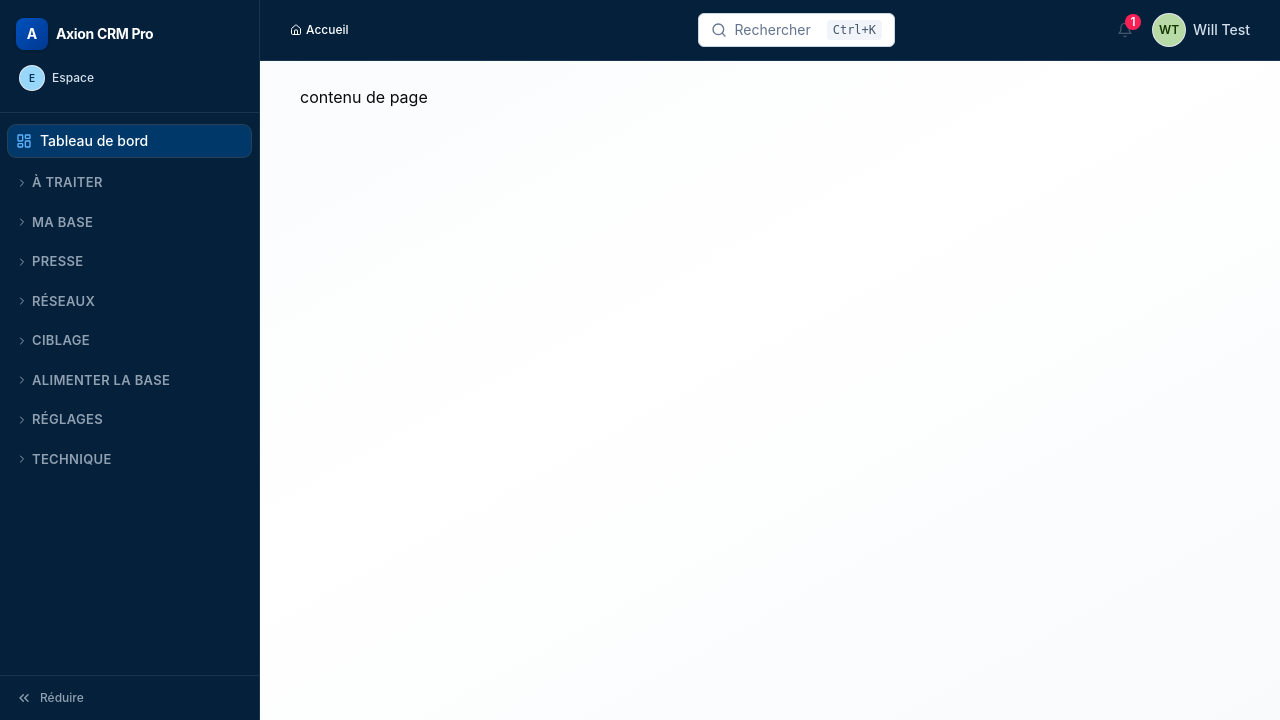
Test: D24-002 — la cloche de l’en-tete ouvre un panneau reel › Echap referme le panneau
Click the button named "Notifications" at (1125, 30), box x1=1111 y1=16 x2=1139 y2=44
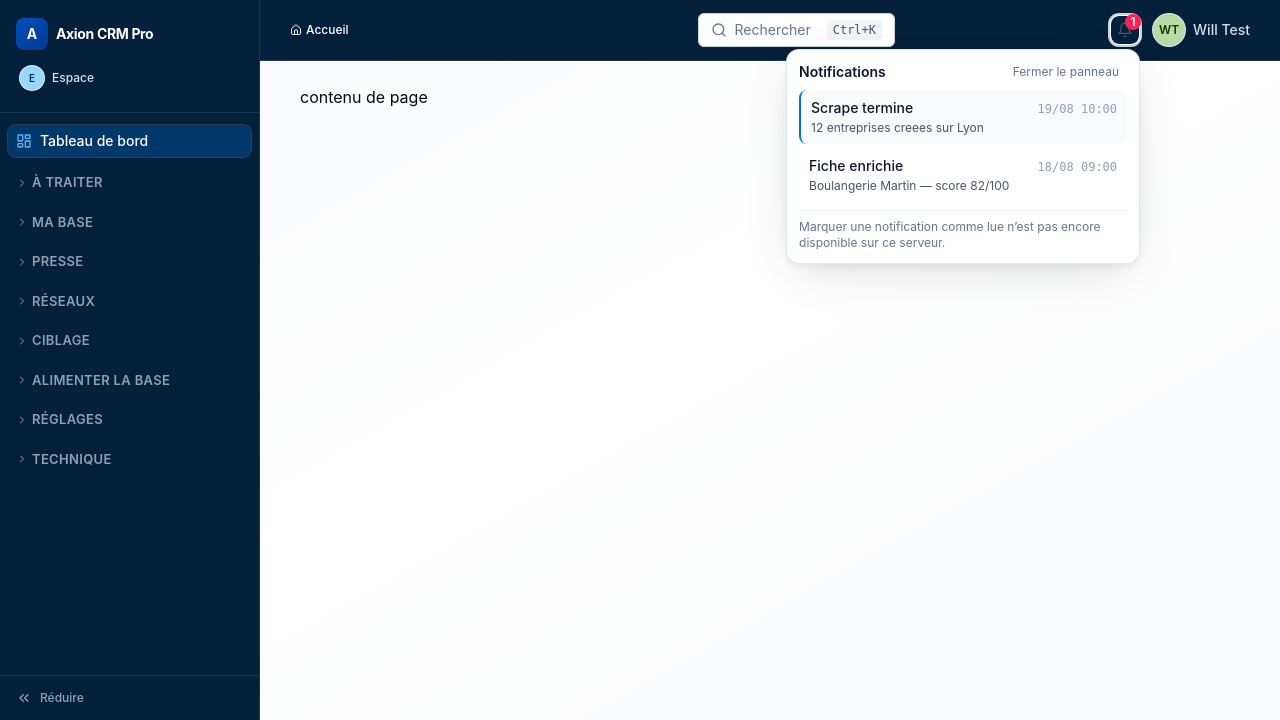
Expected: the dialog "Notifications" is shown, x1=787 y1=50 x2=1139 y2=263
Press Escape
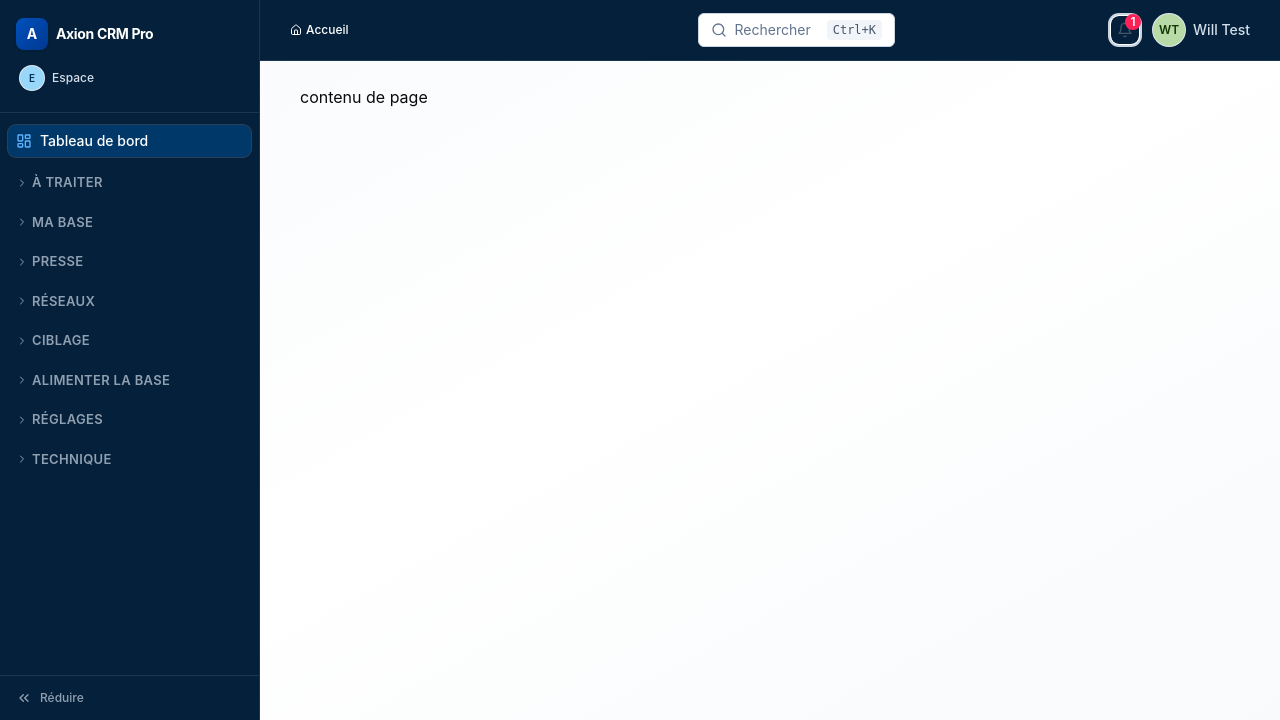
Expected: the heading "Notifications" is gone
